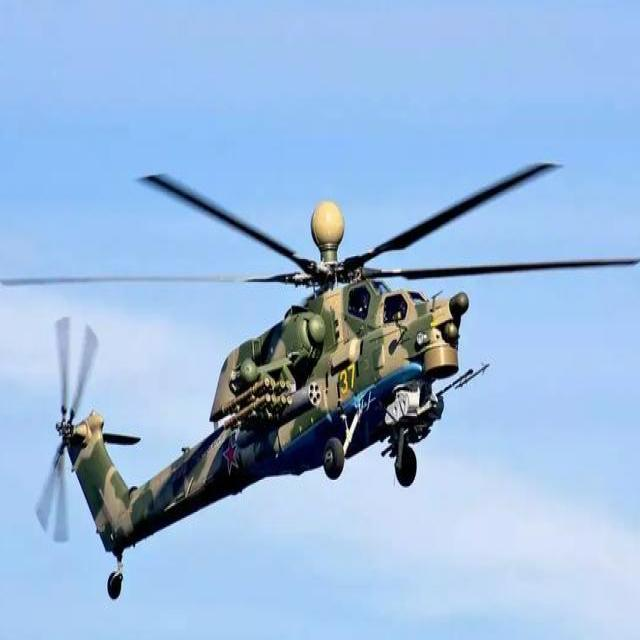MIL_HELO: (0, 152, 640, 605)
